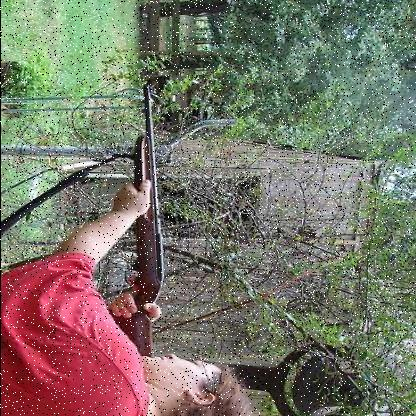rifle: (101, 57, 208, 380)
